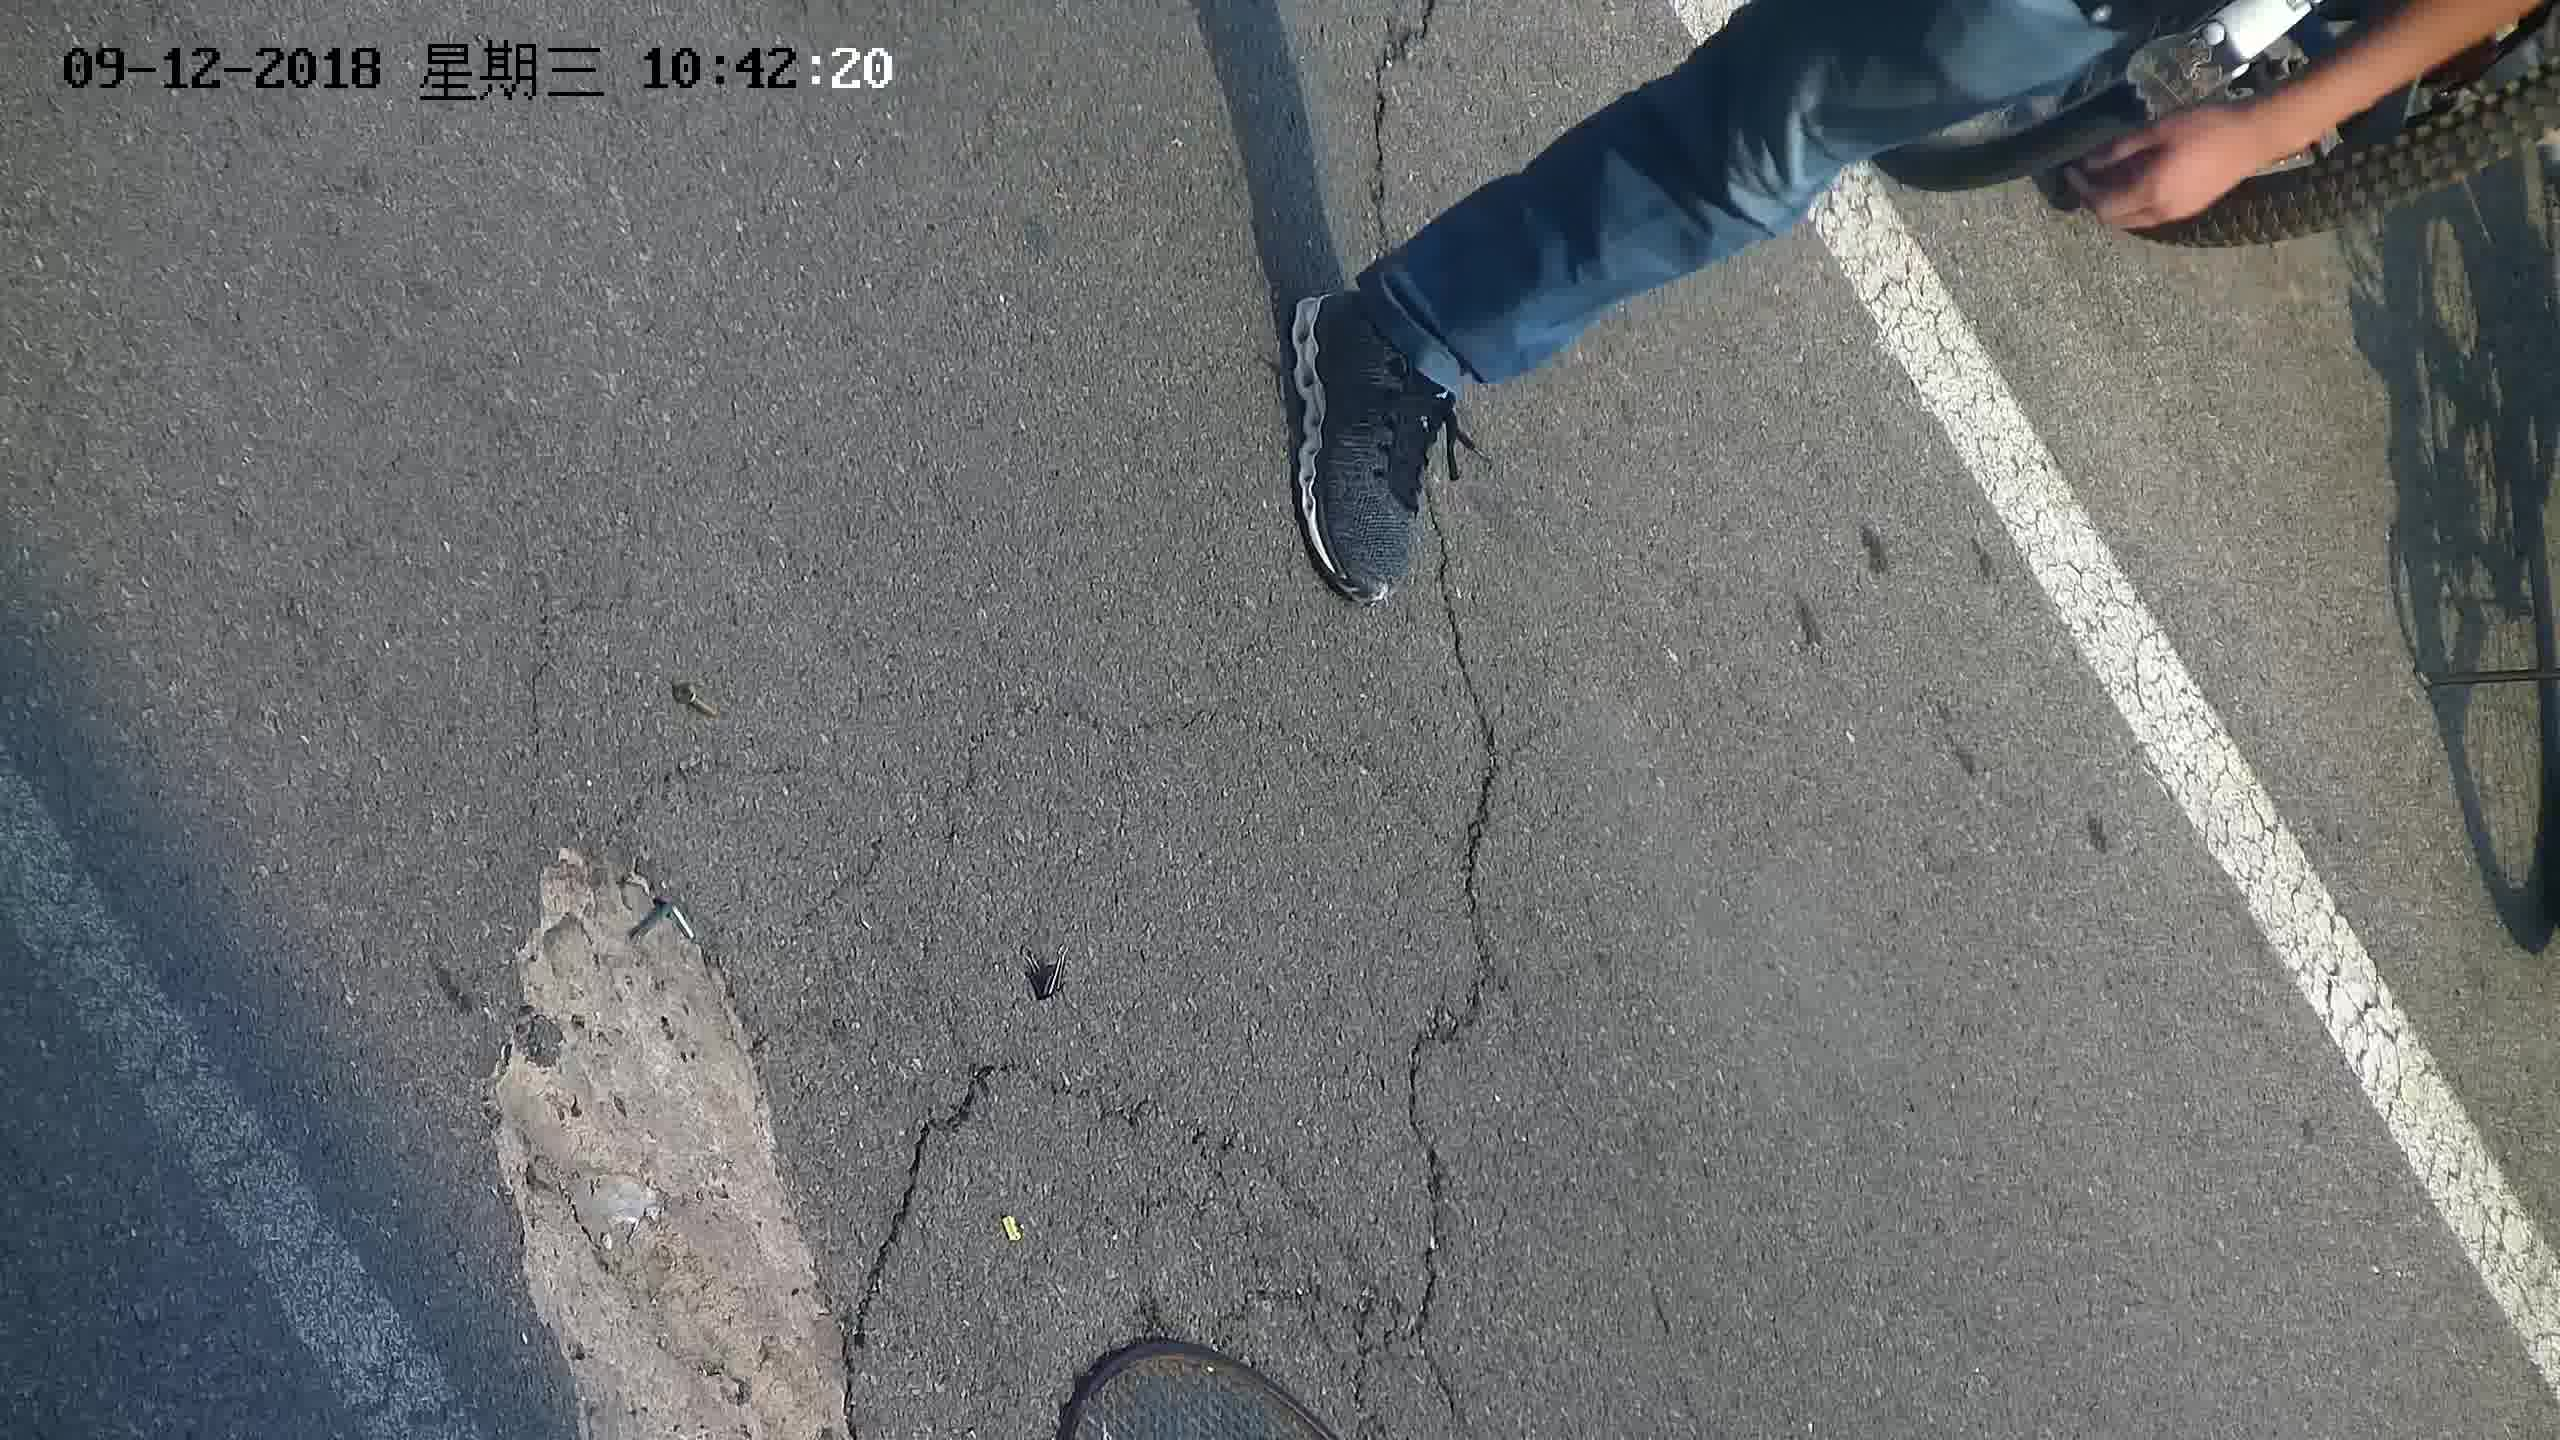L_stick: (622, 886, 707, 953)
clip_B: (1009, 934, 1085, 1015)
clip_Y: (995, 1199, 1044, 1255)
nail: (666, 673, 726, 724)
